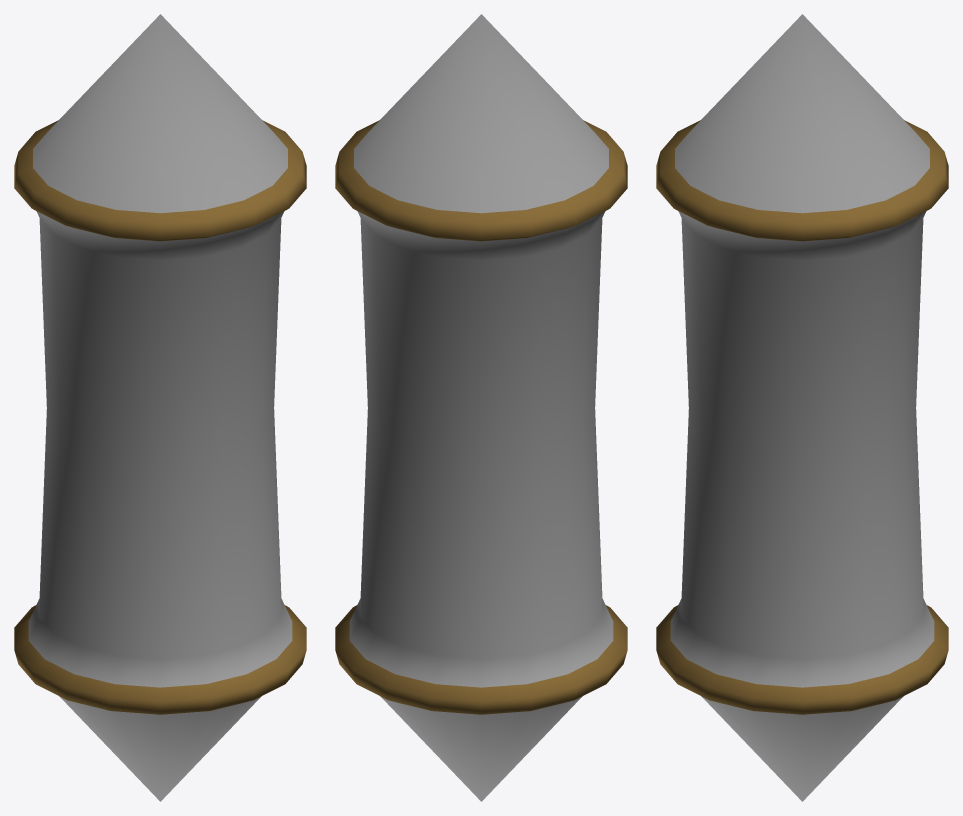
File: Cilindre Flotant.FBX
The picture shows the model from 3 angles, left to right: view 1: azimuth 30°, elevation 25°; view 2: azimuth 150°, elevation 25°; view 3: azimuth 270°, elevation 25°; orthographic projection.
Parts seen in each view (by area): view 1: Cilindre_low; view 2: Cilindre_low; view 3: Cilindre_low.
Boxes of the visible parts, bbox=[...] form: Cilindre_low: bbox=[14, 14, 306, 801]; Cilindre_low: bbox=[335, 14, 627, 801]; Cilindre_low: bbox=[656, 14, 948, 801].
Size of the model in its own units: 79.38 by 78.18 by 232.
